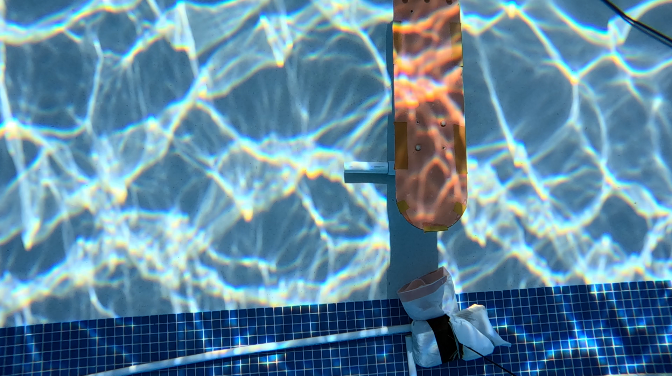pathmarker: (392, 0, 467, 231)
